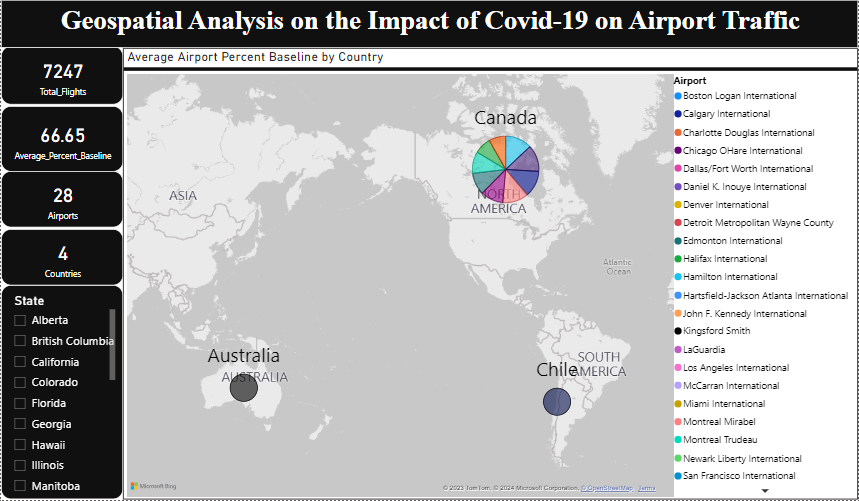

This screenshot's page, from the dashboard's own definition file:
{"tool":"powerbi","page":{"name":"Page 1","canvas":[1200,700],"ordinal":0},"visuals":[{"type":"card","fields":{"Values":["DAX.Total_Flights"]},"box":[0,64.4,171.2,82],"z":0},{"type":"textbox","box":[0,0,1200,67.3],"z":1000},{"type":"card","fields":{"Values":["DAX.Average_Percent_Baseline"]},"box":[0,147.8,171.2,92.2],"z":2000},{"type":"card","fields":{"Values":["DAX.Airports"]},"box":[0,240,171.2,79],"z":3000},{"type":"card","fields":{"Values":["DAX.Countries"]},"box":[0,320.5,171.2,79],"z":4000},{"type":"map","title":"Average Airport Percent Baseline by Country","fields":{"Category":["covid_impact_on_airport_traffic.Country"],"Size":["DAX.Average_Percent_Baseline"],"Series":["covid_impact_on_airport_traffic.AirportName"]},"box":[171.2,67.3,1028.8,632.2],"z":5000},{"type":"slicer","fields":{"Values":["covid_impact_on_airport_traffic.State"]},"box":[0,399.5,171.2,300],"z":6000}]}

Visuals, with their boxes in screenshot pixels (x1, y1, x2, y2), scaled from the page's 1200x700 canvas onto the 859x501 screenshot:
card - DAX.Total_Flights: box(0, 46, 123, 105)
textbox: box(0, 0, 858, 48)
card - DAX.Average_Percent_Baseline: box(0, 106, 123, 172)
card - DAX.Airports: box(0, 172, 123, 228)
card - DAX.Countries: box(0, 229, 123, 286)
"Average Airport Percent Baseline by Country" map: box(123, 48, 858, 500)
slicer - covid_impact_on_airport_traffic.State: box(0, 286, 123, 500)
